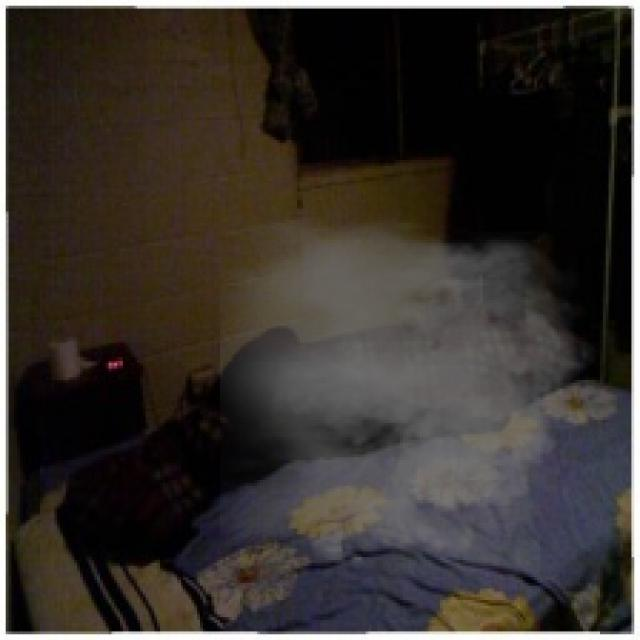smoke: (220, 217, 603, 577)
